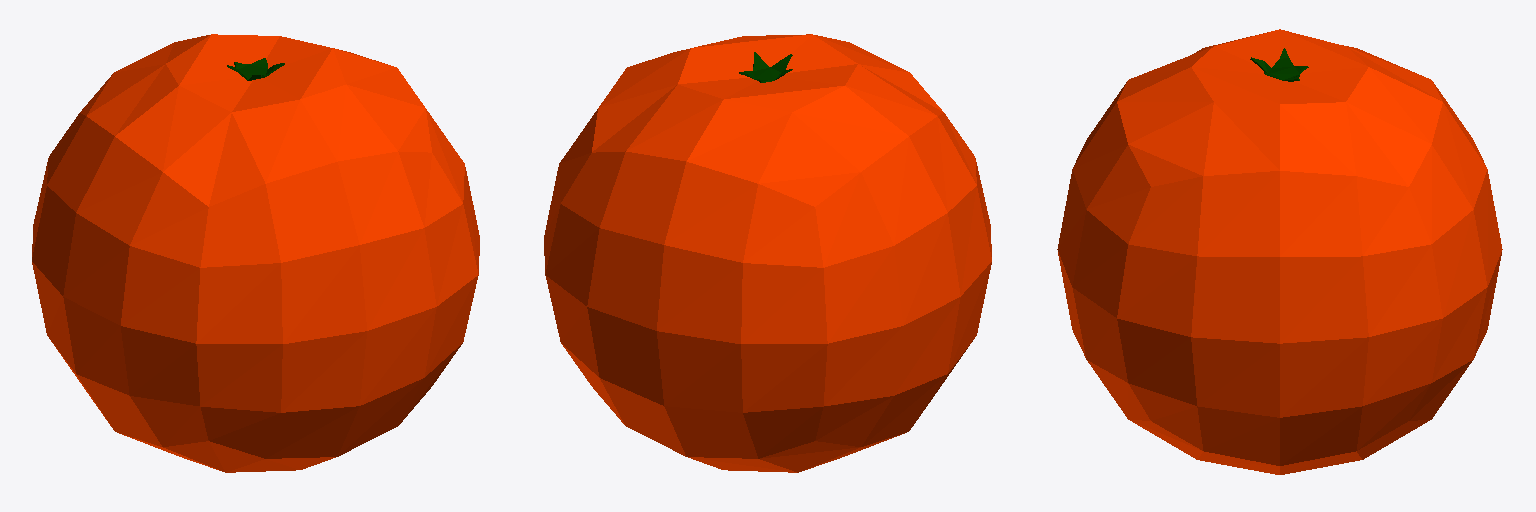
Rendered from orange.obj.
3 renders of one model, left to right at view 1: azimuth 30°, elevation 25°; view 2: azimuth 150°, elevation 25°; view 3: azimuth 270°, elevation 25°, orthographic.
Parts seen in each view (by area): view 1: Orange; view 2: Orange; view 3: Orange.
Boxes of the visible parts, x1=… form: Orange: x1=32, y1=34, x2=479, y2=472; Orange: x1=544, y1=34, x2=991, y2=472; Orange: x1=1057, y1=29, x2=1502, y2=474.
Bounding box in the file's own units: 11.15 × 10.79 × 11.15.